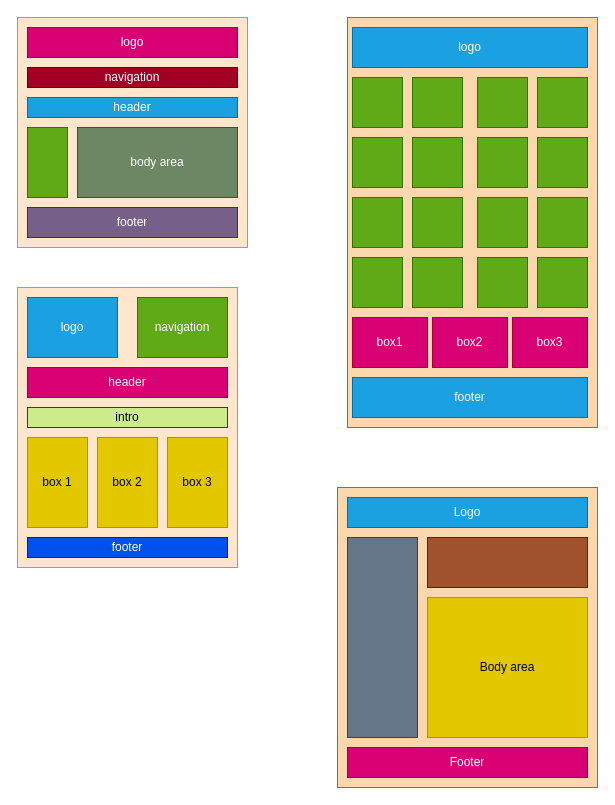
The diagram is 615 pixels wide and 805 high, and some of its shapes have lost their labels. Each missing label, with the centre of its shape:
"Header/Banner" belongs at pixel 507 562.
"side area" belongs at pixel 47 162.
"Side Bar/ Navigation" belongs at pixel 382 637.
